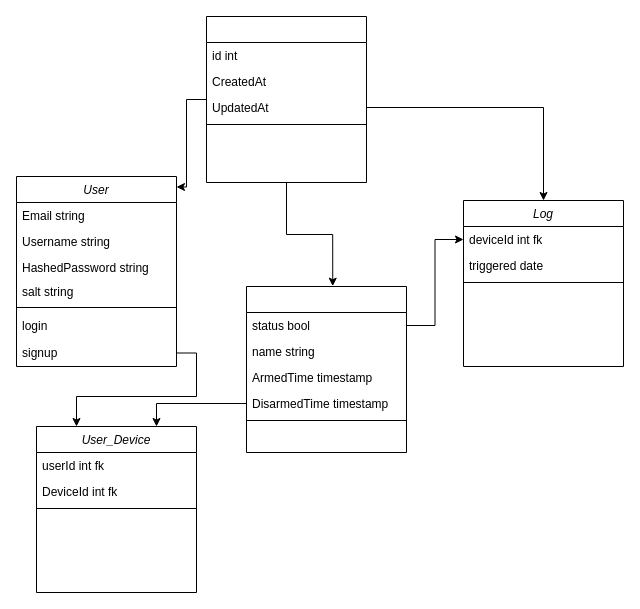
The diagram is 640 pixels wide and 609 high, and some of its shapes have lost their labels. Here are the shapes that lost their labels. From the top down, the box of each, then its label:
(206, 16, 366, 182): Common
(246, 286, 406, 452): Device
